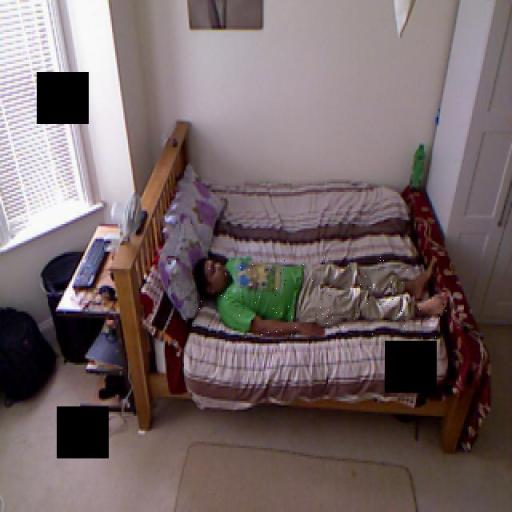Fall: (192, 256, 446, 339)
